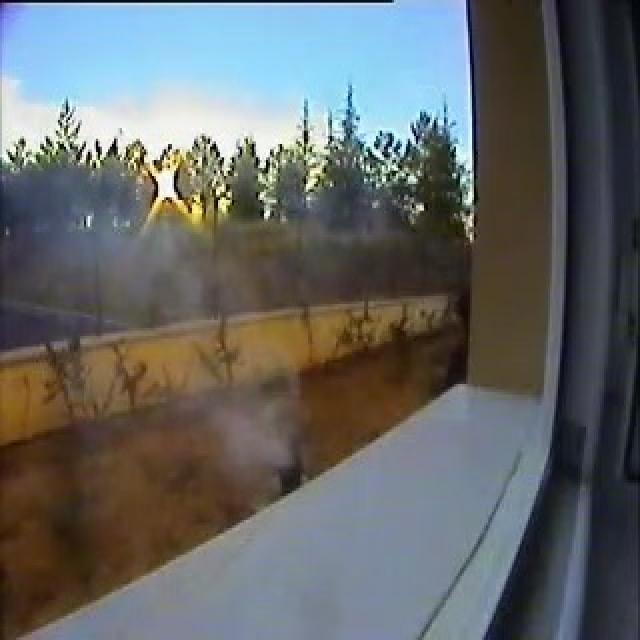smoke: (198, 374, 290, 460)
